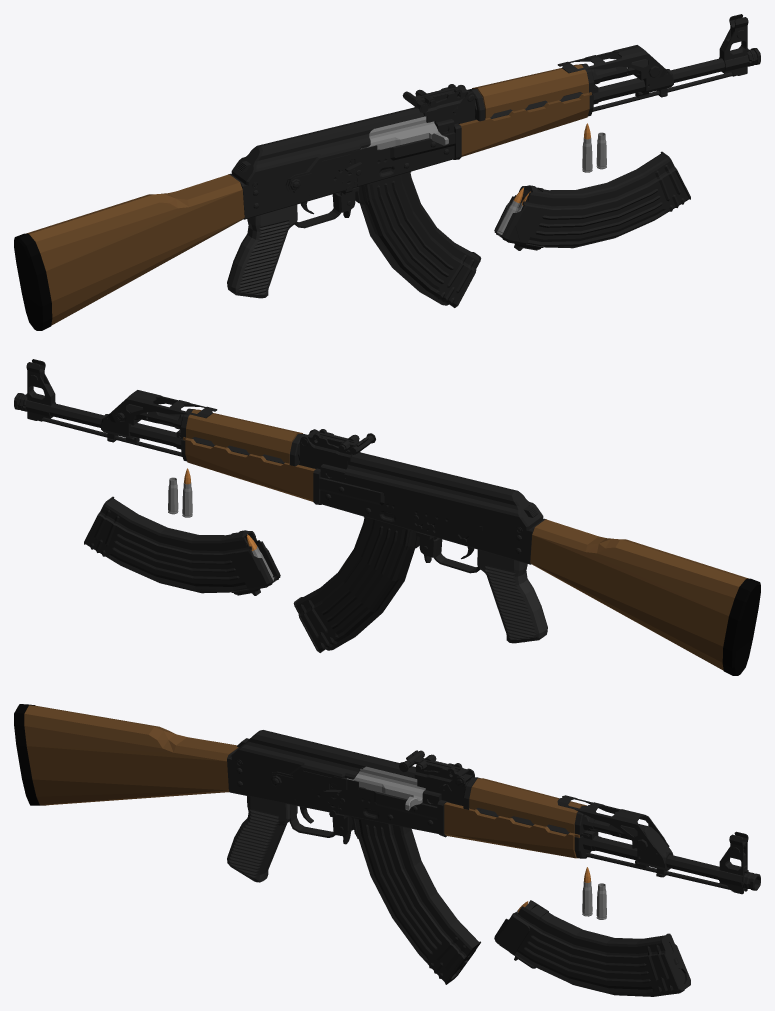
The model's file is low-poly_zastava_m70.glb.
3 views of the same model, one above another, from view 1: azimuth 30°, elevation 25°; view 2: azimuth 150°, elevation 25°; view 3: azimuth 330°, elevation 25° (orthographic).
Visible parts, largest first — view 1: zstvm70 stock_15, ak 30rnd steel mag_3, zstvm70 receiver_12, ak 30rnd empty steel mag_2, zstvm70 handguard_13, zstvm70 barrel_4, zstvm70 dust cover_11, zstvm70 grip_14, zstvm70 bolt_5, zstvm70 selector_8; view 2: zstvm70 stock_15, zstvm70 receiver_12, ak 30rnd steel mag_3, ak 30rnd empty steel mag_2, zstvm70 handguard_13, zstvm70 dust cover_11, zstvm70 barrel_4, zstvm70 grip_14; view 3: zstvm70 stock_15, ak 30rnd steel mag_3, zstvm70 receiver_12, ak 30rnd empty steel mag_2, zstvm70 handguard_13, zstvm70 barrel_4, zstvm70 dust cover_11, zstvm70 grip_14, zstvm70 bolt_5, zstvm70 selector_8.
Boxes of the visible parts, bbox=[...] form: zstvm70 stock_15: bbox=[14, 174, 244, 330]; ak 30rnd steel mag_3: bbox=[494, 151, 690, 250]; zstvm70 receiver_12: bbox=[228, 63, 627, 228]; ak 30rnd empty steel mag_2: bbox=[355, 171, 481, 307]; zstvm70 handguard_13: bbox=[453, 64, 591, 159]; zstvm70 barrel_4: bbox=[476, 14, 749, 119]; zstvm70 dust cover_11: bbox=[231, 107, 424, 185]; zstvm70 grip_14: bbox=[227, 204, 297, 298]; zstvm70 bolt_5: bbox=[361, 67, 627, 149]; zstvm70 selector_8: bbox=[285, 145, 377, 192]; zstvm70 stock_15: bbox=[530, 519, 760, 675]; zstvm70 receiver_12: bbox=[147, 408, 546, 573]; ak 30rnd steel mag_3: bbox=[84, 496, 280, 595]; ak 30rnd empty steel mag_2: bbox=[293, 516, 419, 652]; zstvm70 handguard_13: bbox=[183, 409, 321, 504]; zstvm70 dust cover_11: bbox=[344, 452, 543, 530]; zstvm70 barrel_4: bbox=[25, 359, 298, 464]; zstvm70 grip_14: bbox=[477, 549, 547, 643]; zstvm70 stock_15: bbox=[14, 704, 238, 805]; ak 30rnd steel mag_3: bbox=[494, 900, 690, 996]; zstvm70 receiver_12: bbox=[227, 738, 619, 837]; ak 30rnd empty steel mag_2: bbox=[350, 816, 480, 984]; zstvm70 handguard_13: bbox=[437, 778, 586, 858]; zstvm70 barrel_4: bbox=[447, 795, 756, 894]; zstvm70 dust cover_11: bbox=[231, 730, 415, 779]; zstvm70 grip_14: bbox=[227, 796, 297, 882]; zstvm70 bolt_5: bbox=[347, 766, 425, 810]; zstvm70 selector_8: bbox=[269, 768, 358, 793].
Bounding box in the file's own units: 9.06 × 2.56 × 0.6379.
